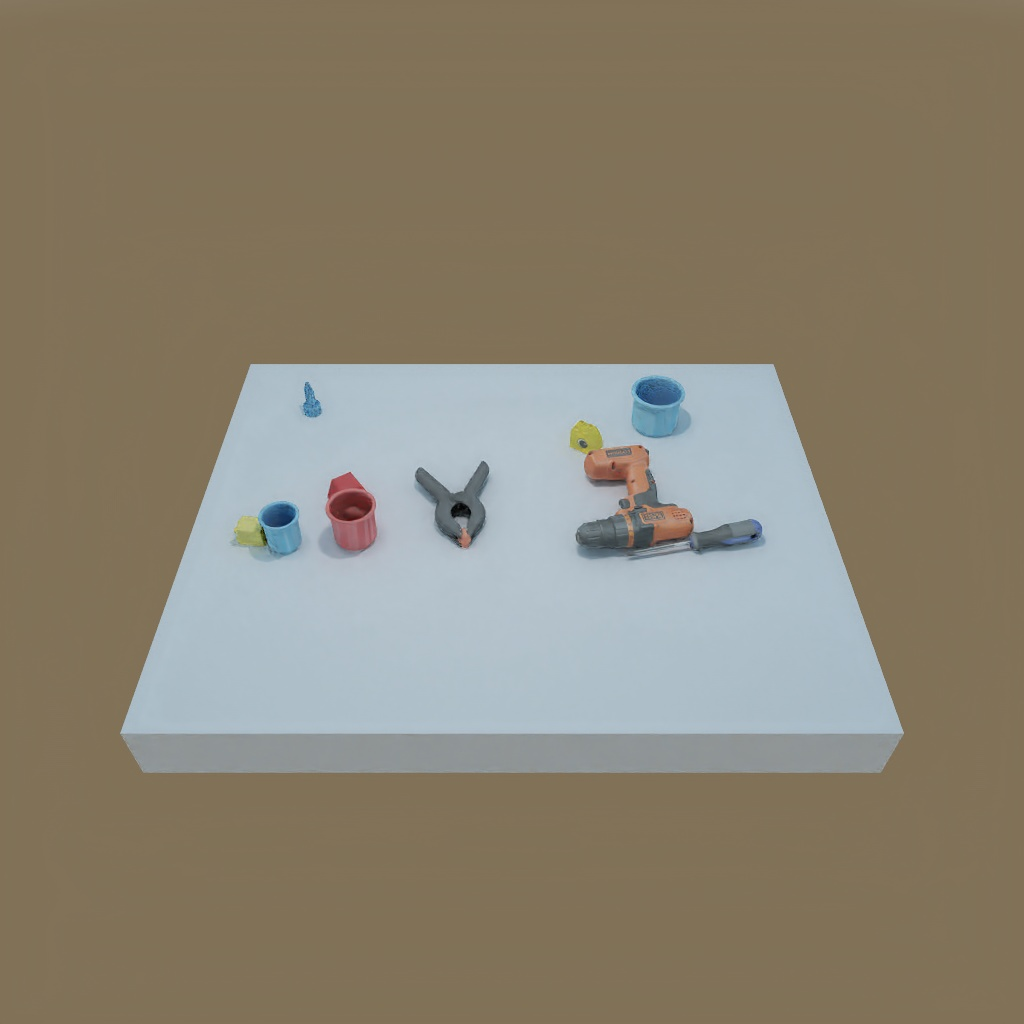power_drill: (577, 448, 693, 548)
